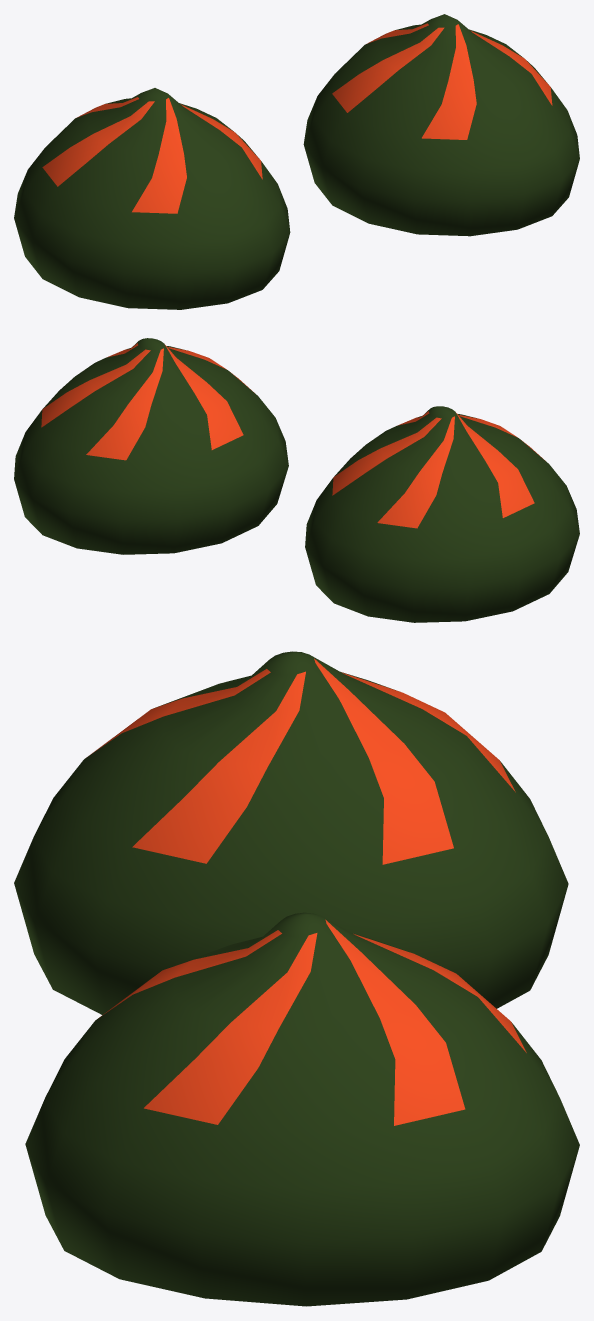
Rendered from GameObject.fbx.
3 renders of one model, top to bottom at view 1: azimuth 30°, elevation 25°; view 2: azimuth 150°, elevation 25°; view 3: azimuth 270°, elevation 25°, orthographic. The views are drawn at different scales.
Parts seen in each view (by area): view 1: Sphere_1, Sphere; view 2: Sphere, Sphere_1; view 3: Sphere, Sphere_1.
Boxes of the visible parts, x1,y1,x2,y2 form: Sphere_1: [14, 88, 290, 309]; Sphere: [303, 14, 579, 236]; Sphere: [14, 338, 288, 554]; Sphere_1: [305, 406, 579, 622]; Sphere: [25, 912, 579, 1306]; Sphere_1: [14, 651, 568, 1014].
Size of the model in its own units: 52.15 by 17.57 by 26.47.
